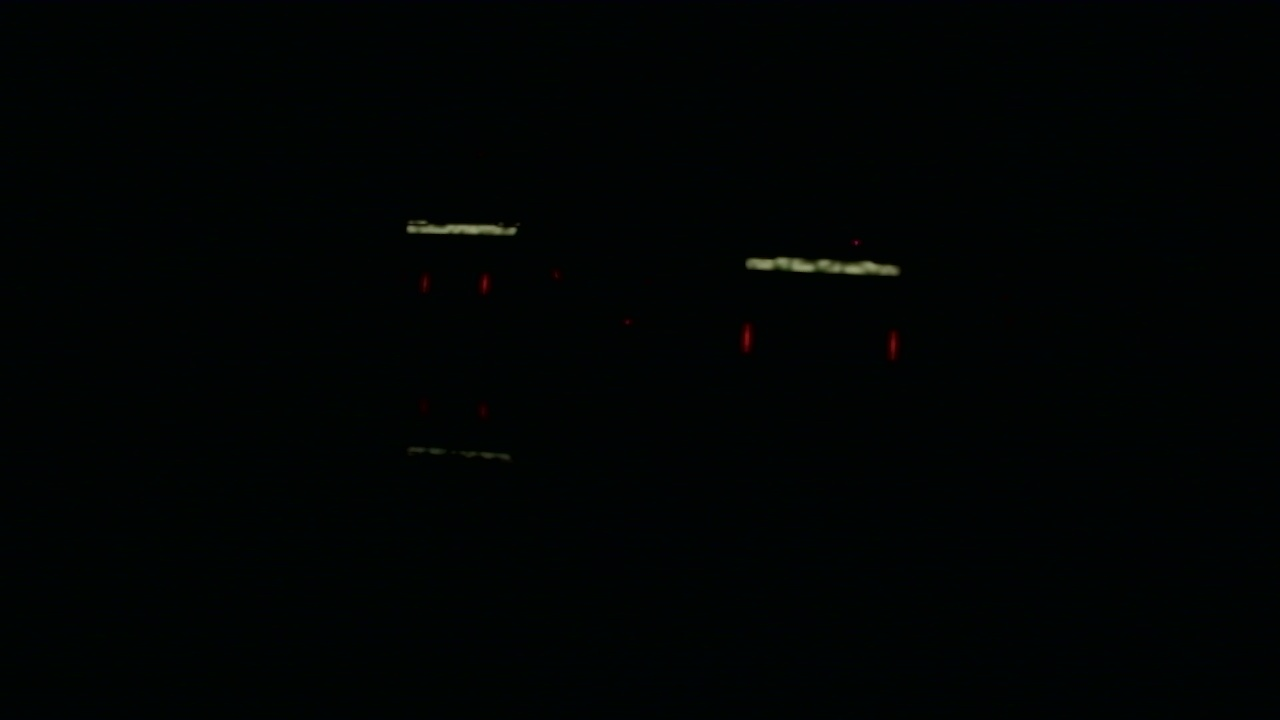lamp: (740, 321, 754, 354), (890, 325, 899, 358), (480, 274, 488, 293), (423, 272, 429, 292)
pair1: (422, 274, 488, 294)
pair2: (740, 324, 898, 363)
